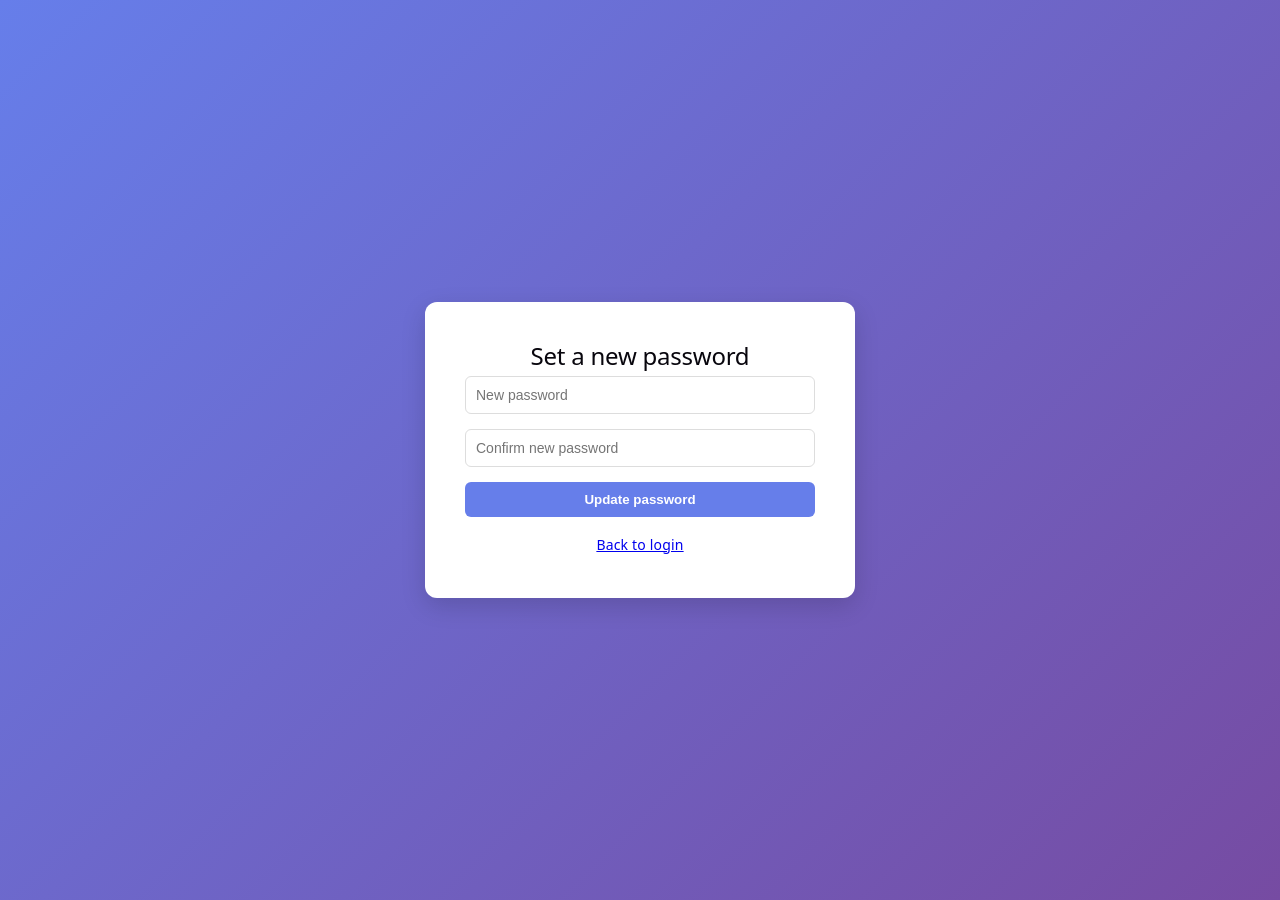
Scenario: ResetPassword page › rejects mismatched passwords client-side
Step 1. Type "abcdef" into the password field with placeholder "New password" → [640, 395], box [465,376,815,414]
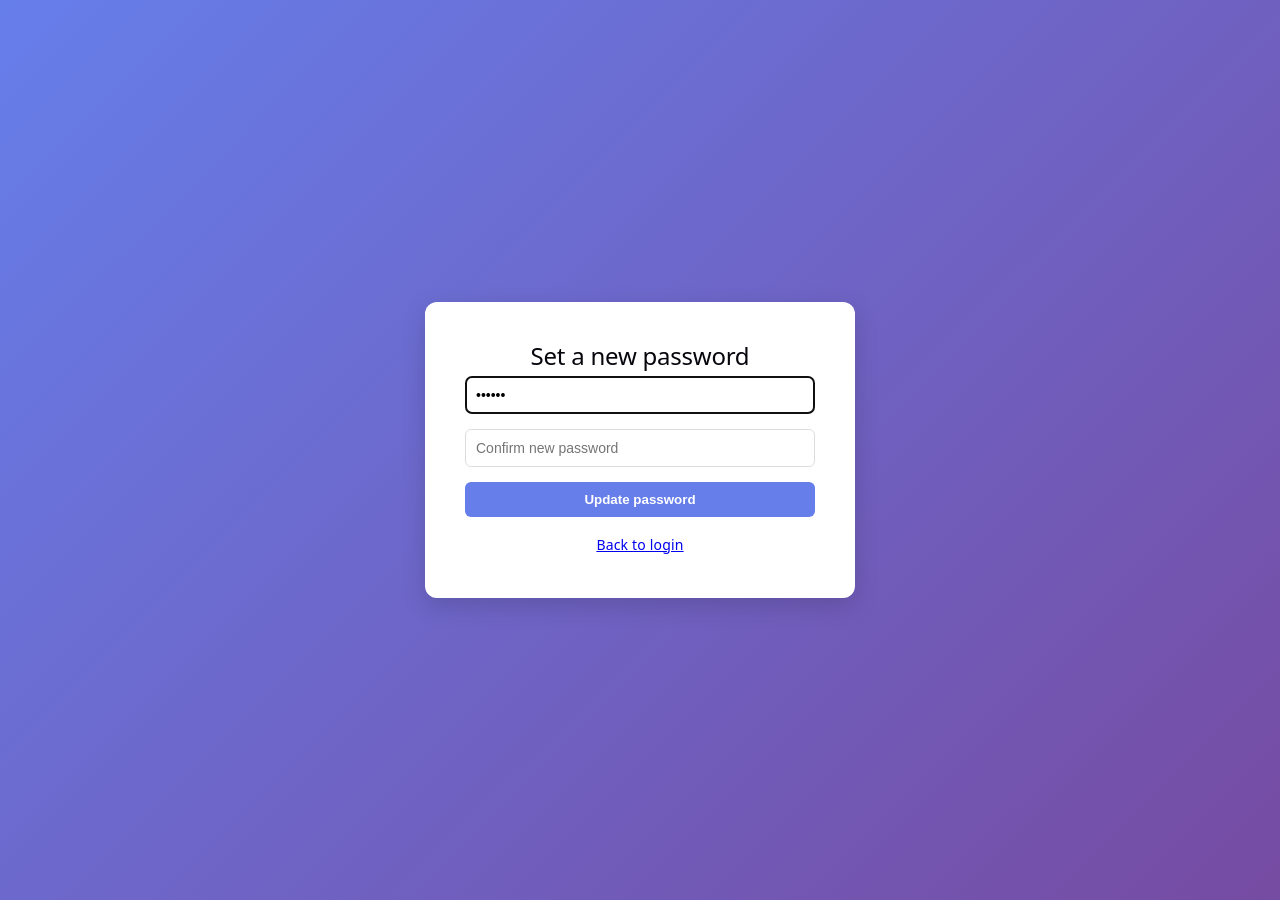
Step 2. Type "different" into the password field with placeholder "Confirm new password" → [640, 448], box [465,429,815,467]
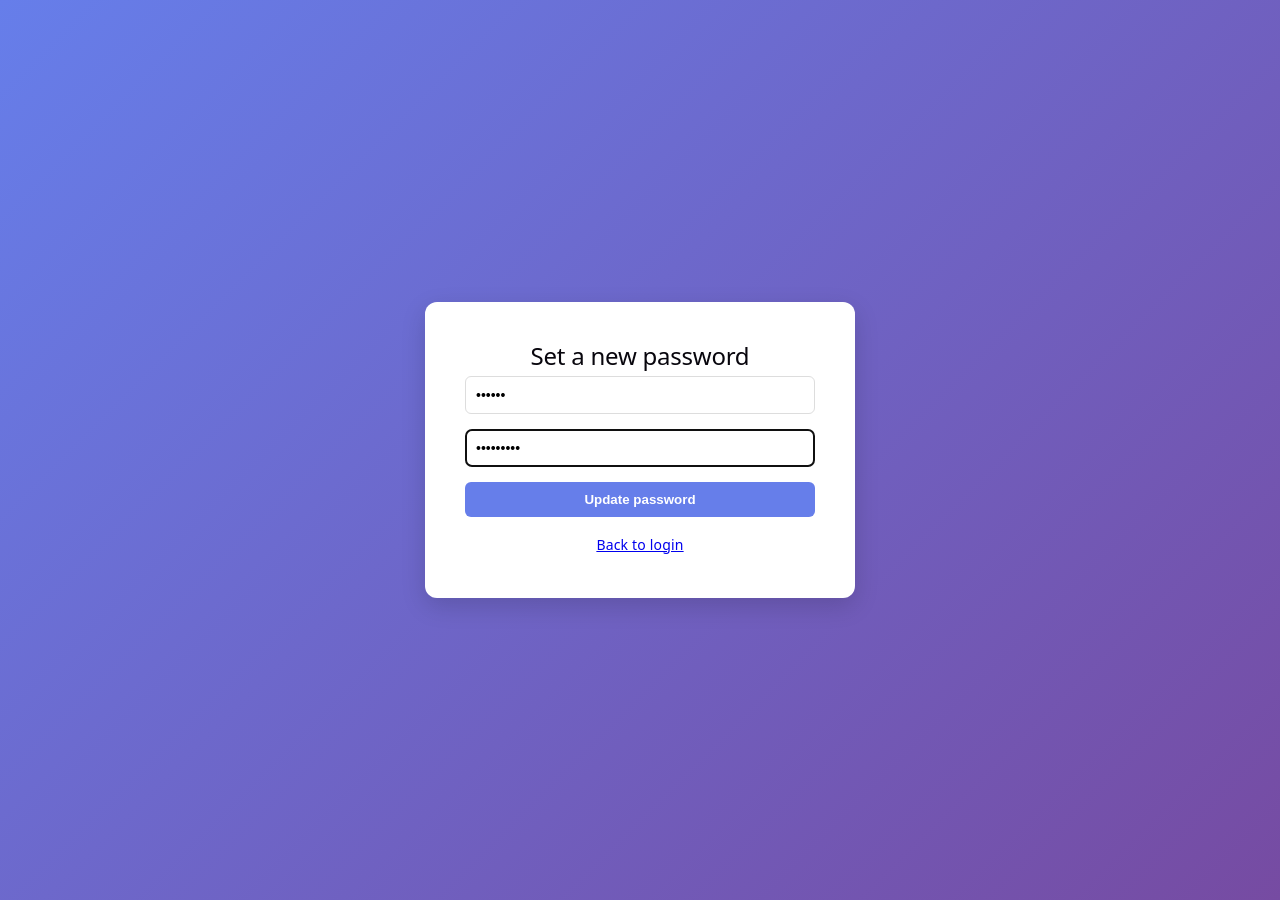
Step 3. Click the button "Update password" → [640, 499], box [465,482,815,517]
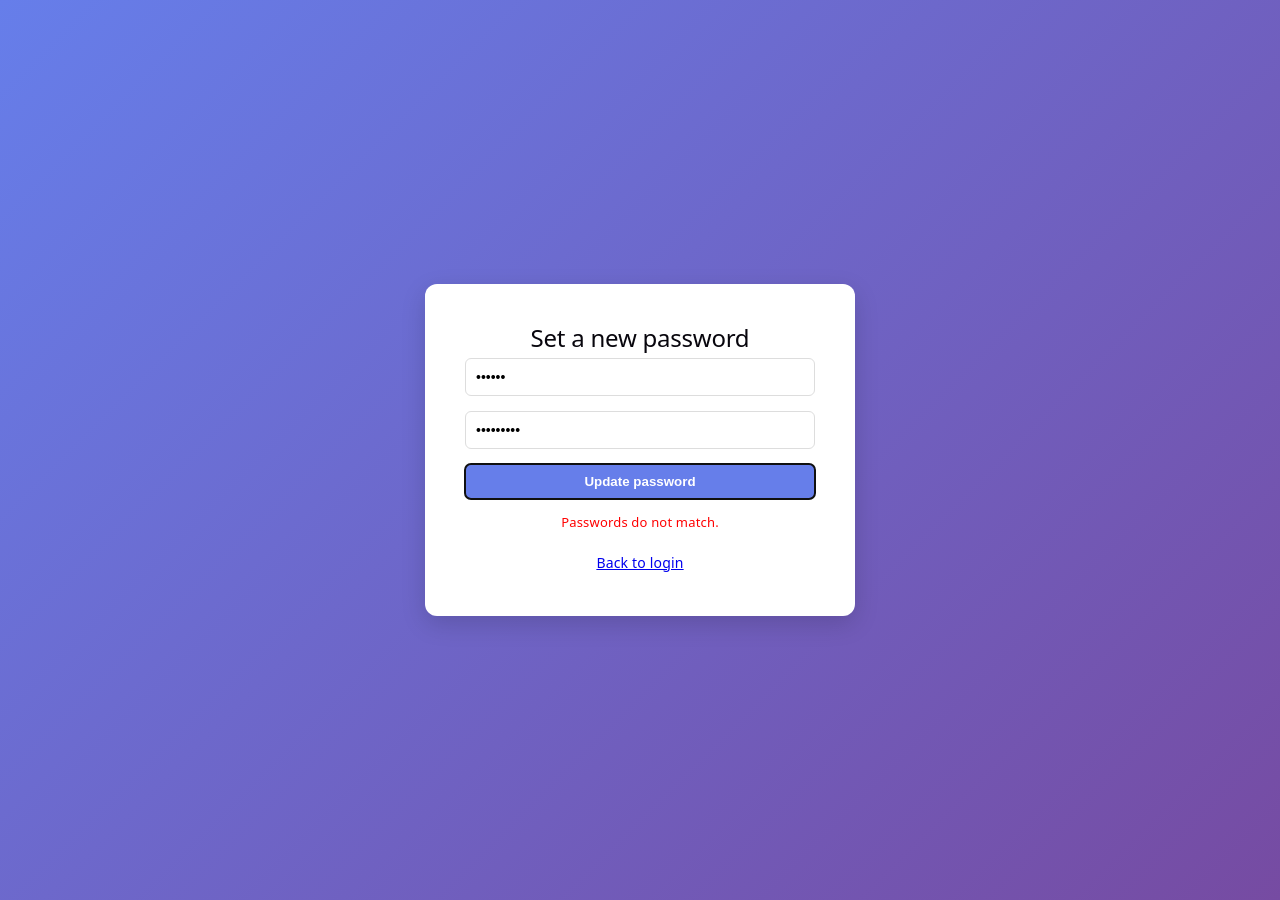
Expected: the text "Passwords do not match." is shown, [561,513,719,531]
